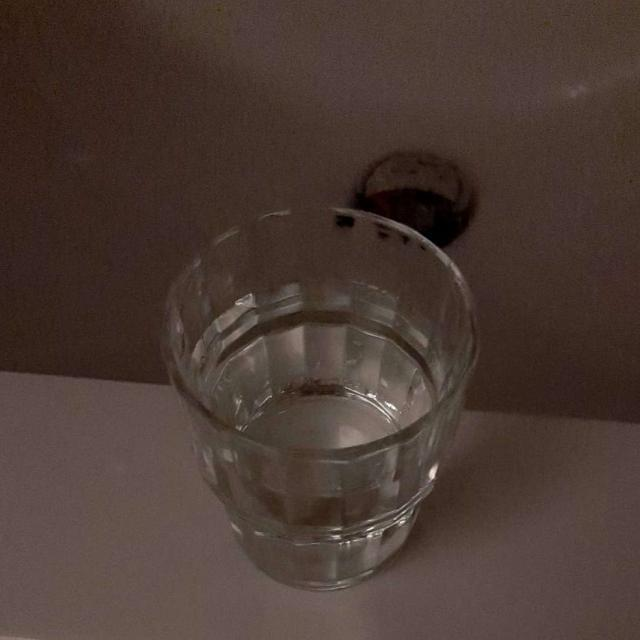water: (185, 293, 438, 584), (191, 294, 444, 570), (201, 307, 446, 573)
